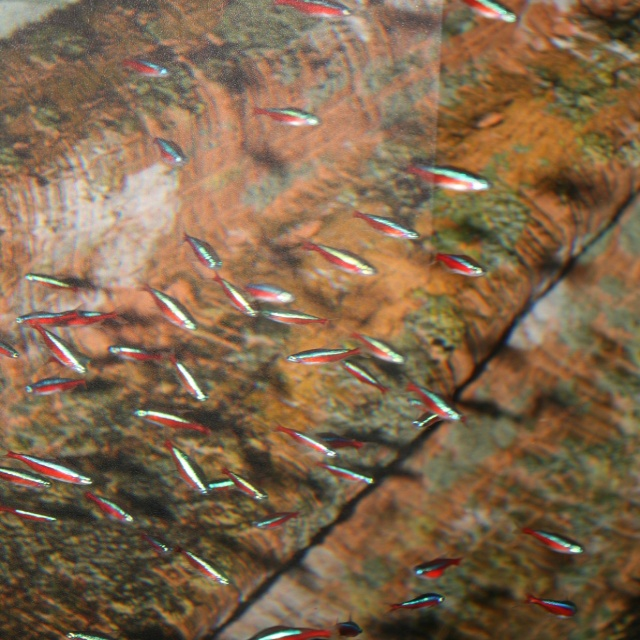Fish: (8, 452, 100, 488), (301, 239, 375, 276), (264, 426, 337, 460), (167, 445, 213, 498), (143, 288, 198, 330), (34, 328, 85, 373), (406, 168, 498, 192), (411, 384, 470, 421), (132, 405, 205, 434), (351, 210, 421, 239), (352, 333, 406, 370), (213, 272, 262, 311), (183, 545, 231, 584), (518, 528, 581, 556), (252, 106, 324, 130), (349, 361, 395, 398), (178, 232, 217, 272), (277, 0, 355, 20), (246, 622, 332, 640), (322, 460, 378, 486), (377, 594, 445, 615), (526, 594, 582, 619), (83, 494, 136, 520), (20, 272, 86, 292), (172, 363, 208, 398), (408, 556, 462, 578), (463, 0, 516, 22), (283, 344, 355, 360), (433, 254, 483, 277), (107, 346, 175, 362), (26, 376, 86, 394), (0, 470, 58, 488), (0, 506, 60, 523), (264, 312, 326, 328), (60, 310, 119, 326), (131, 530, 172, 552), (250, 282, 295, 302), (125, 58, 170, 75), (154, 138, 183, 163), (14, 311, 53, 328), (259, 513, 295, 530), (232, 477, 264, 496), (62, 630, 101, 640), (1, 339, 20, 358), (210, 477, 237, 490), (420, 410, 439, 424)
